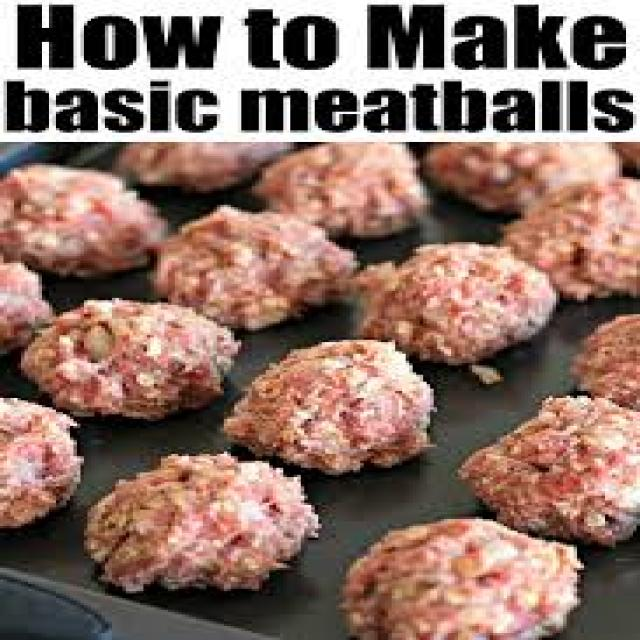meatball: (79, 448, 328, 593), (318, 509, 591, 640), (223, 335, 450, 477), (12, 295, 250, 419), (438, 386, 640, 530), (350, 238, 566, 364), (145, 206, 359, 318), (0, 162, 197, 278)
